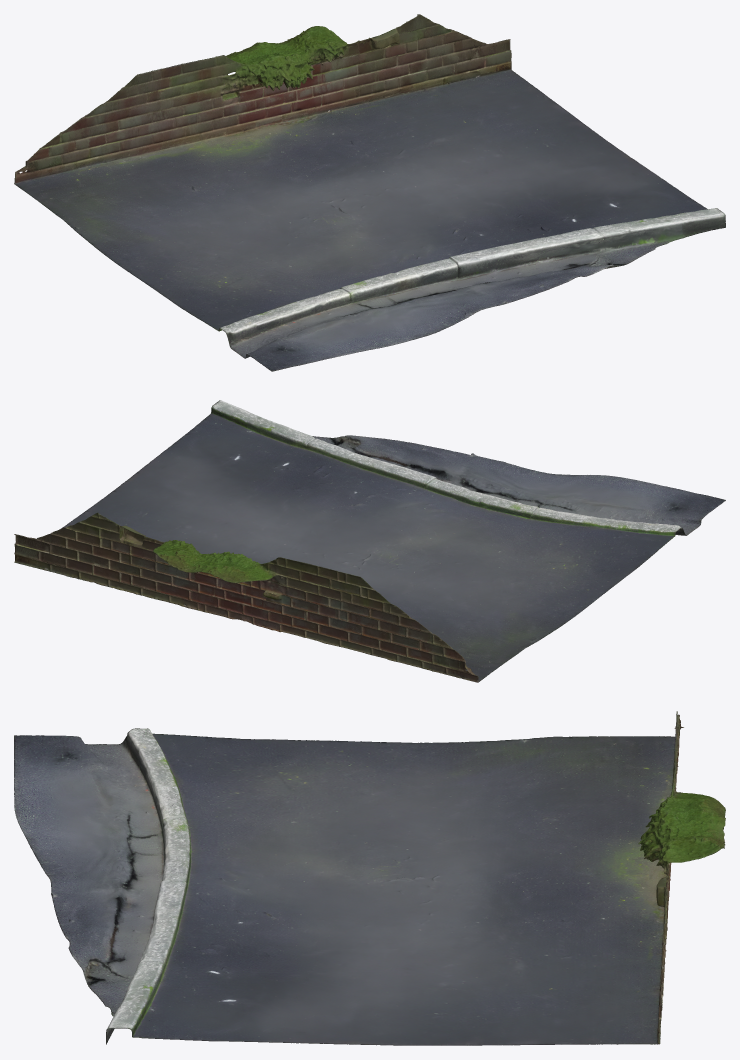
Rendered from Meshy_AI_Mossy_Curb_Along_the__0521183157_texture.glb.
3 renders of one model, top to bottom at view 1: azimuth 30°, elevation 25°; view 2: azimuth 150°, elevation 25°; view 3: azimuth 270°, elevation 25°, orthographic. The views are drawn at different scales.
Size of the model in its own units: 1.9 by 0.3281 by 1.86.
Materials: 1 (1 with a texture image).
